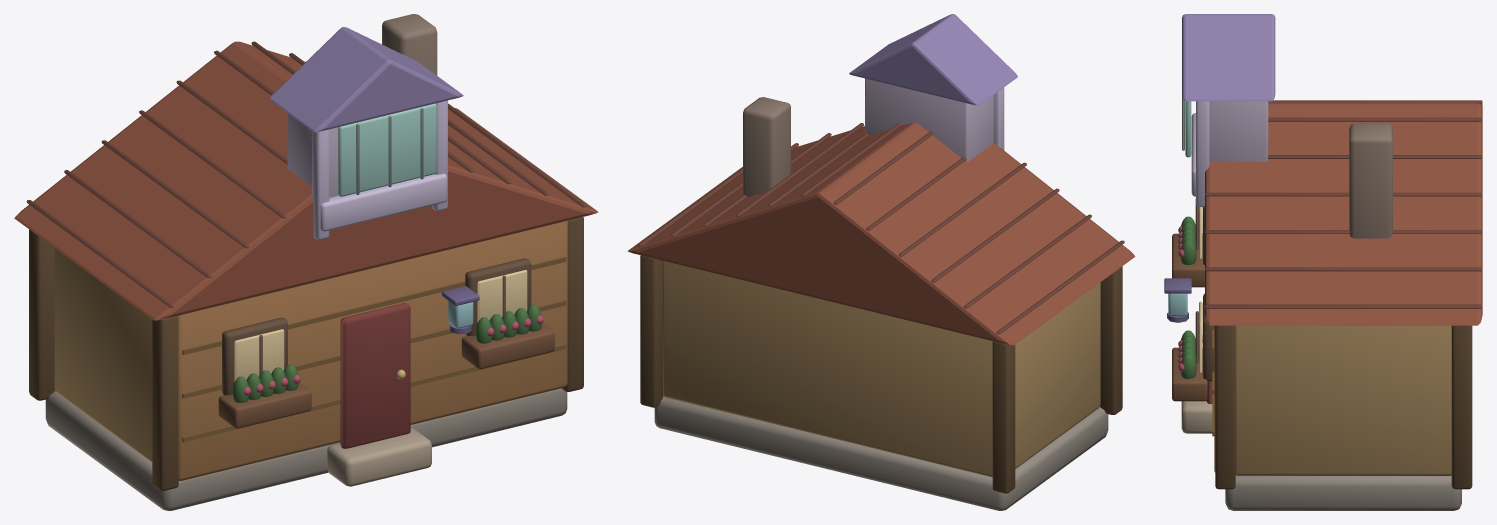
File: res_moss2.glb
3 views of the same model, side by side, from view 1: azimuth 30°, elevation 25°; view 2: azimuth 150°, elevation 25°; view 3: azimuth 270°, elevation 25° (orthographic). The views are drawn at different scales.
Parts seen in each view (by area): view 1: base, roof, crystal, walls, frame; view 2: base, roof, walls, frame; view 3: base, roof, walls, crystal, frame.
Part boxes in pixels (box(x1,y1,x2,y2)): base: box(14, 14, 598, 510); roof: box(269, 27, 463, 132); crystal: box(338, 103, 479, 334); walls: box(287, 113, 447, 231); frame: box(312, 100, 447, 239); base: box(627, 97, 1135, 510); roof: box(849, 14, 1017, 105); walls: box(865, 78, 993, 161); frame: box(993, 87, 1004, 150); base: box(1172, 100, 1482, 510); roof: box(1182, 14, 1275, 101); walls: box(1191, 101, 1268, 196); crystal: box(1164, 95, 1191, 322); frame: box(1196, 101, 1209, 206).
Size of the model in its own units: 3.6 by 3.26 by 2.32.
